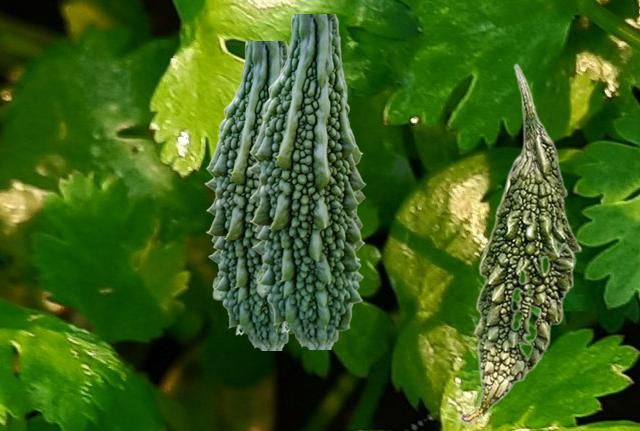ampalaya: (458, 62, 581, 422), (247, 14, 365, 348), (204, 41, 293, 349)
